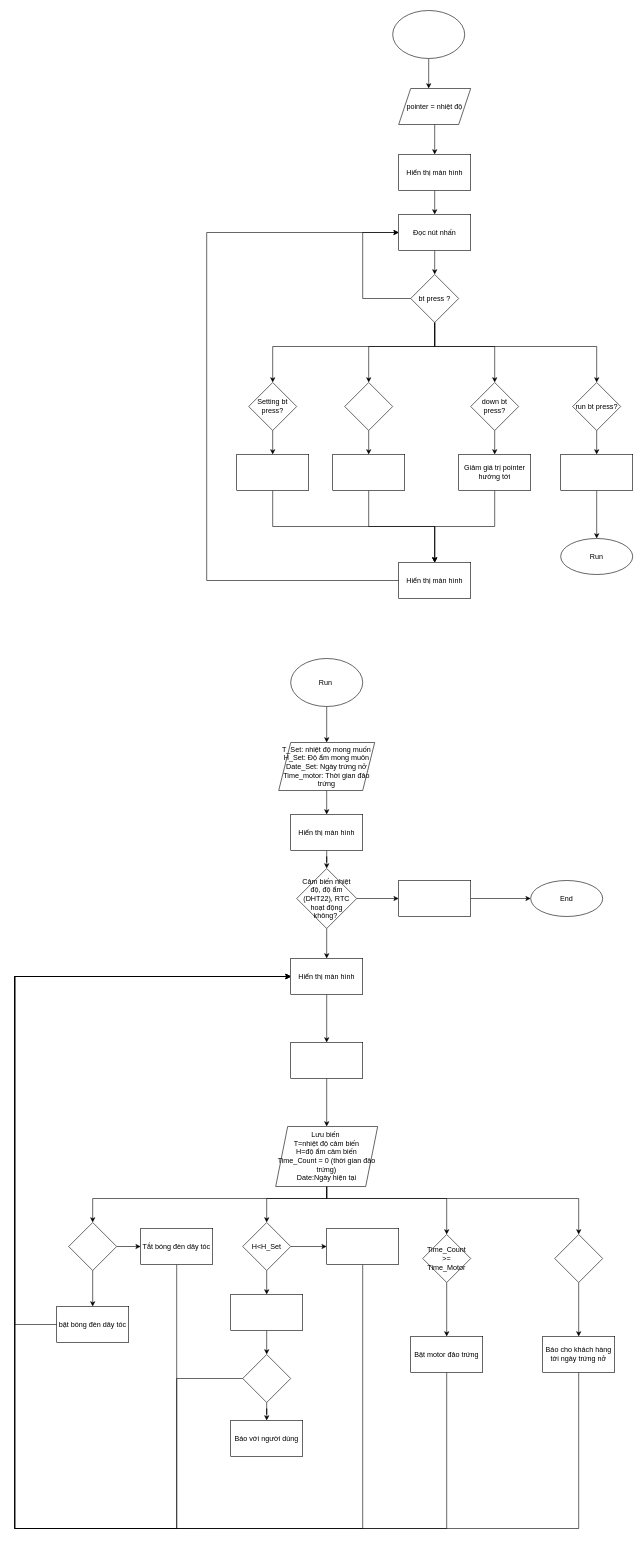
The diagram is 643 pixels wide and 1544 high, and some of its shapes have lost their labels. The box of each missing label's shape, as (x1, y1, x2, y2) in pixels:
Bật điều khiển quạt T_H = 0 (biến đếm thời gian nếu độ ẩm thấp): (230, 1294, 303, 1330)
chuyển pointer sang - Độ ẩm - Thời gian đảo - Thời gian ấp: (236, 454, 309, 490)
Date >= Date_Set: (554, 1234, 603, 1282)
Lưu setting và chuyển sang mode Run: (560, 454, 633, 490)
Setting: (392, 10, 465, 58)
T<T_Set: (68, 1222, 117, 1270)
T_H >= 2h: (242, 1354, 291, 1402)
Thông báo về cho khách hàng: (398, 880, 471, 916)
Tăng giá trị pointer hướng tới: (332, 454, 405, 490)
Tắt điều khiển quạt: (326, 1228, 399, 1264)
up bt press?: (344, 382, 393, 430)
Đọc giá trị của cảm biến: (290, 1042, 363, 1078)
